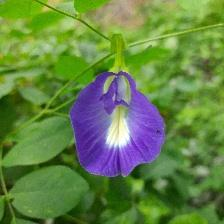shankupushpam: (68, 33, 170, 181)
